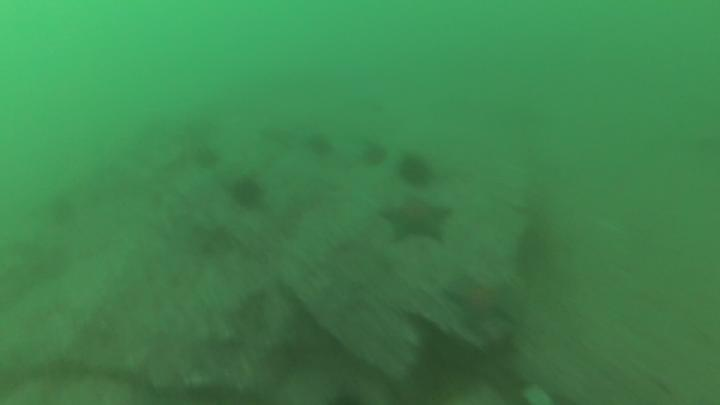echinus: (401, 158, 432, 187), (237, 181, 262, 209), (365, 145, 387, 165)
starfish: (447, 280, 517, 328), (381, 200, 451, 245)
